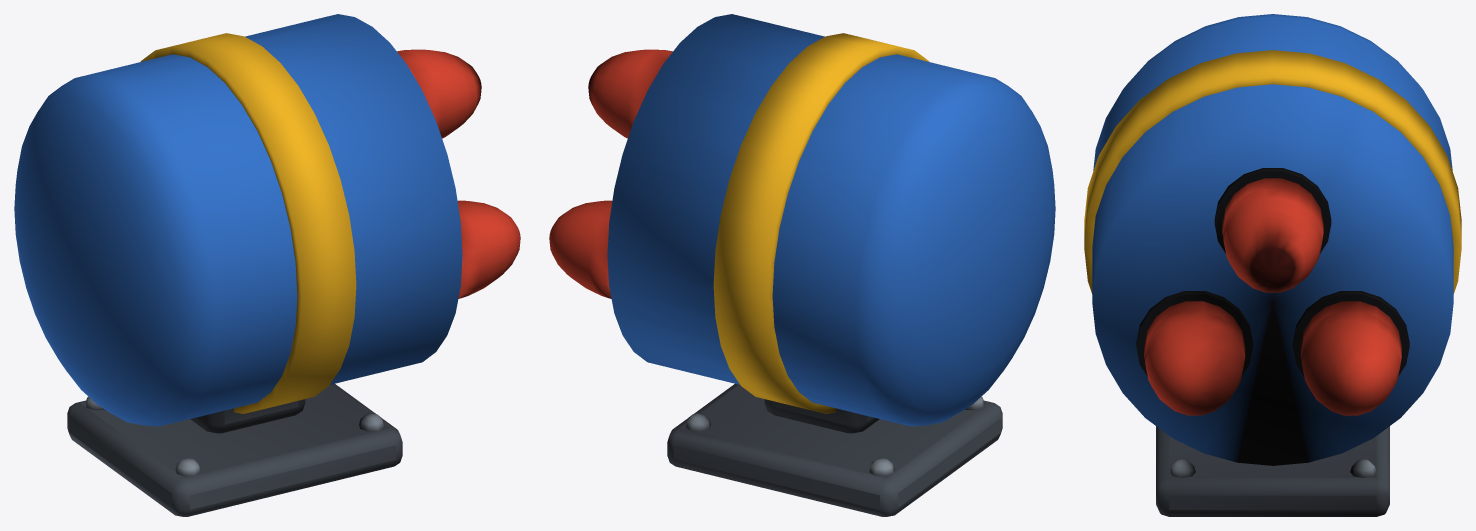
File: part_missile.glb
3 renders of one model, left to right at view 1: azimuth 30°, elevation 25°; view 2: azimuth 150°, elevation 25°; view 3: azimuth 270°, elevation 25°, orthographic.
Parts seen in each view (by area): view 1: missile_pod; view 2: missile_pod; view 3: missile_pod.
Part boxes in pixels (x1,y1,x2,y2): missile_pod: (14,14,520,516); missile_pod: (549,14,1055,516); missile_pod: (1084,14,1461,516).
Bounding box in the file's own units: 0.91 × 0.835 × 0.71.
